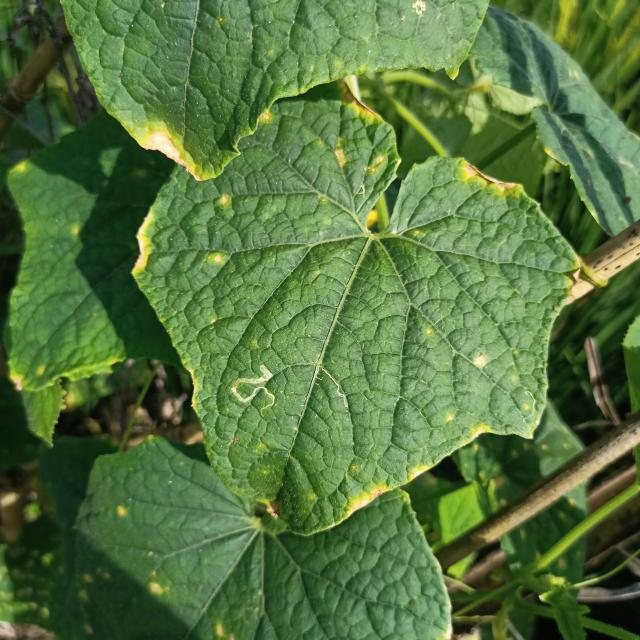disease_cucumber: (332, 100, 390, 178), (440, 412, 488, 442), (207, 249, 225, 270), (469, 352, 486, 369), (216, 193, 230, 210)
